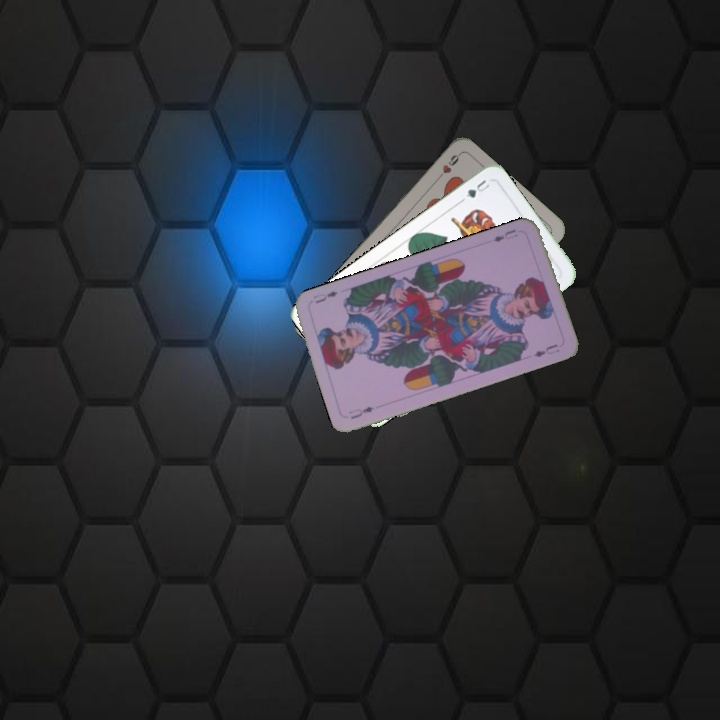EU: (345, 402, 377, 422), (489, 225, 520, 245)
GU: (457, 175, 492, 204)
H9: (432, 150, 463, 183)
